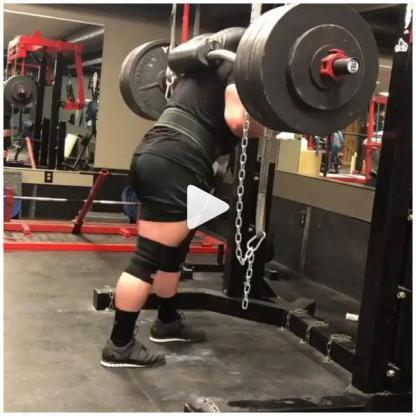Barbell: (347, 56, 364, 78), (20, 88, 29, 96)
